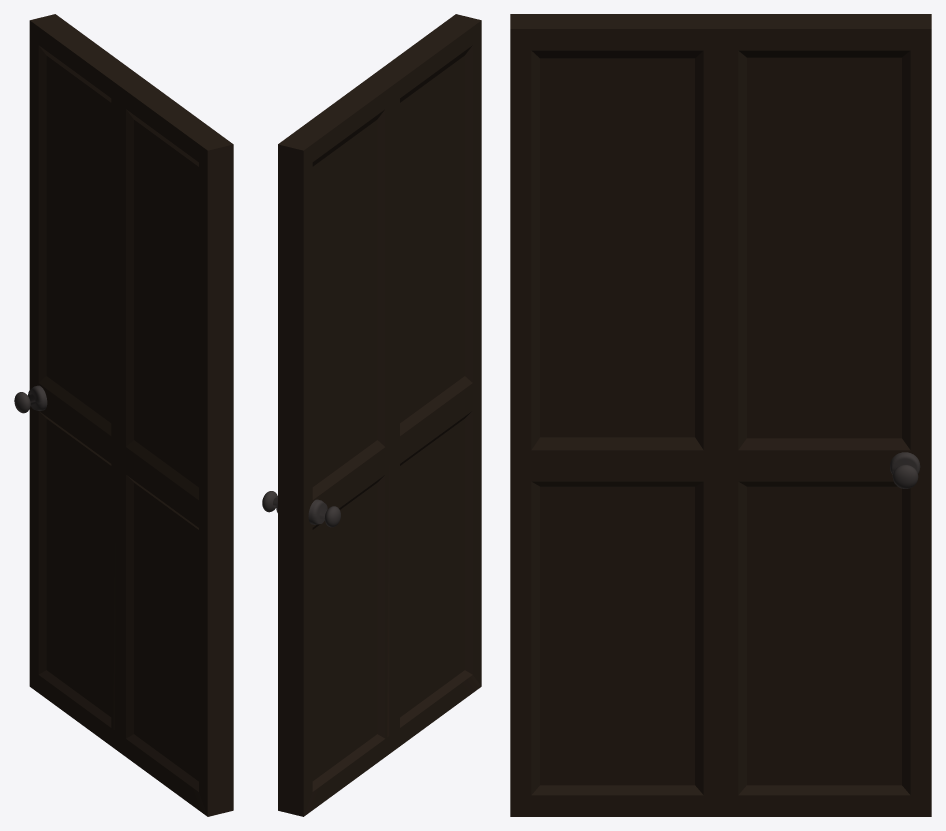
The model's file is Door 1.fbx.
3 views of the same model, side by side, from view 1: azimuth 30°, elevation 25°; view 2: azimuth 150°, elevation 25°; view 3: azimuth 270°, elevation 25° (orthographic). The views are drawn at different scales.
Visible parts, largest first — view 1: Cube; view 2: Cube; view 3: Cube.
Part boxes in pixels (x1=…): Cube: x1=14, y1=14, x2=233, y2=816; Cube: x1=262, y1=14, x2=481, y2=816; Cube: x1=510, y1=14, x2=931, y2=816.
Size of the model in its own units: 217 by 1853 by 898.
